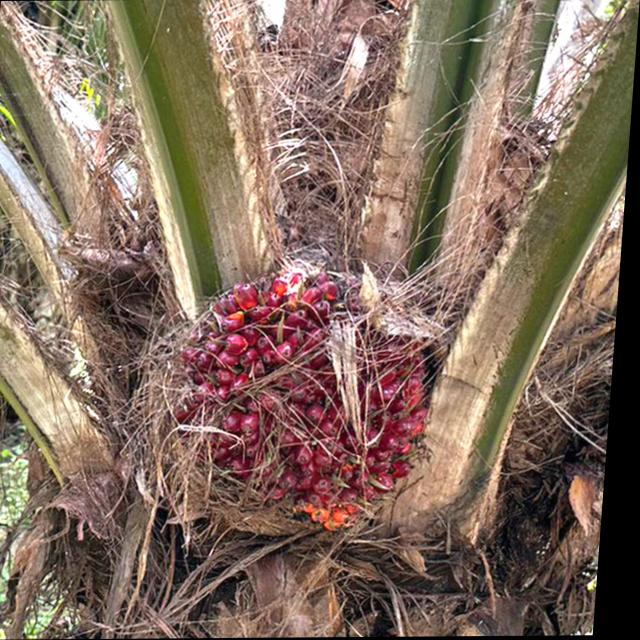ripe: (137, 237, 475, 545)
